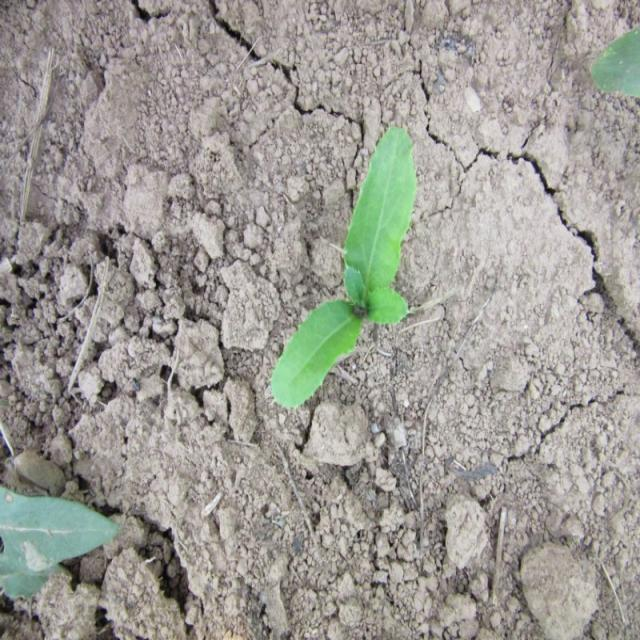field_thistle: (246, 132, 432, 402)
